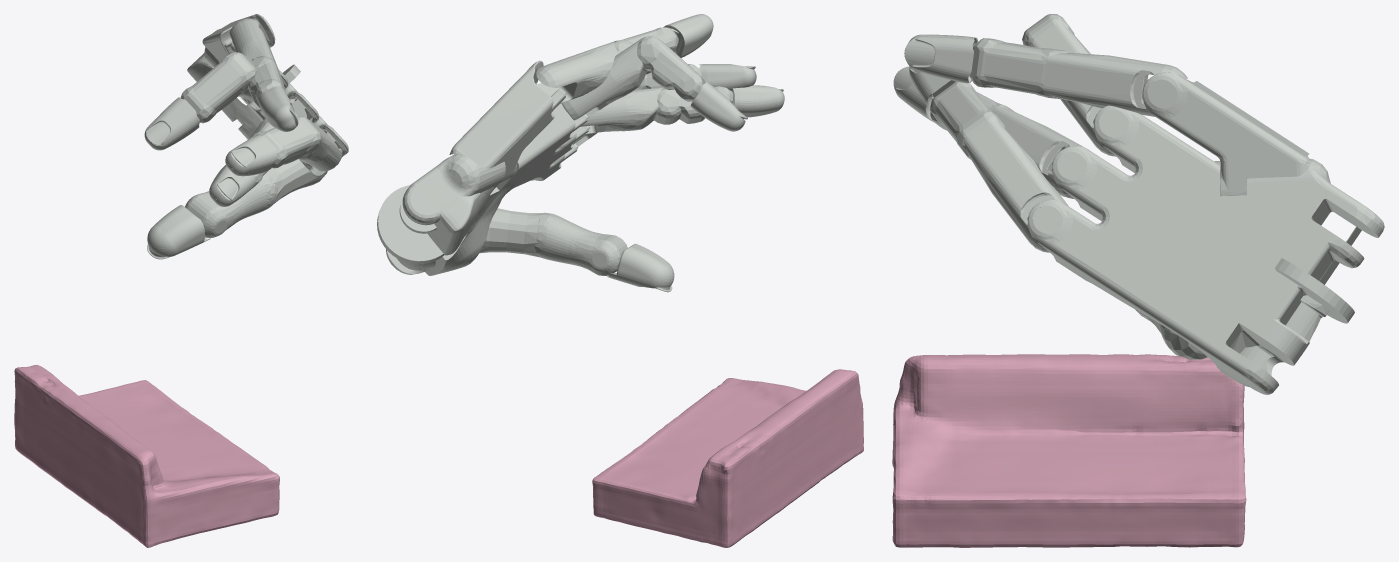
3 renders of one model, left to right at view 1: azimuth 30°, elevation 25°; view 2: azimuth 150°, elevation 25°; view 3: azimuth 270°, elevation 25°, orthographic. The views are drawn at different scales.
Parts seen in each view (by area): view 1: world, hand_isaac_q; view 2: hand_isaac_q, world; view 3: hand_isaac_q, world.
Boxes of the visible parts, bbox=[...] form: world: bbox=[14, 365, 279, 547]; hand_isaac_q: bbox=[144, 14, 348, 259]; hand_isaac_q: bbox=[377, 14, 784, 292]; world: bbox=[592, 369, 863, 547]; hand_isaac_q: bbox=[893, 14, 1384, 394]; world: bbox=[892, 354, 1246, 547].
Size of the model in its own units: 0.1865 by 0.2248 by 0.1842.
